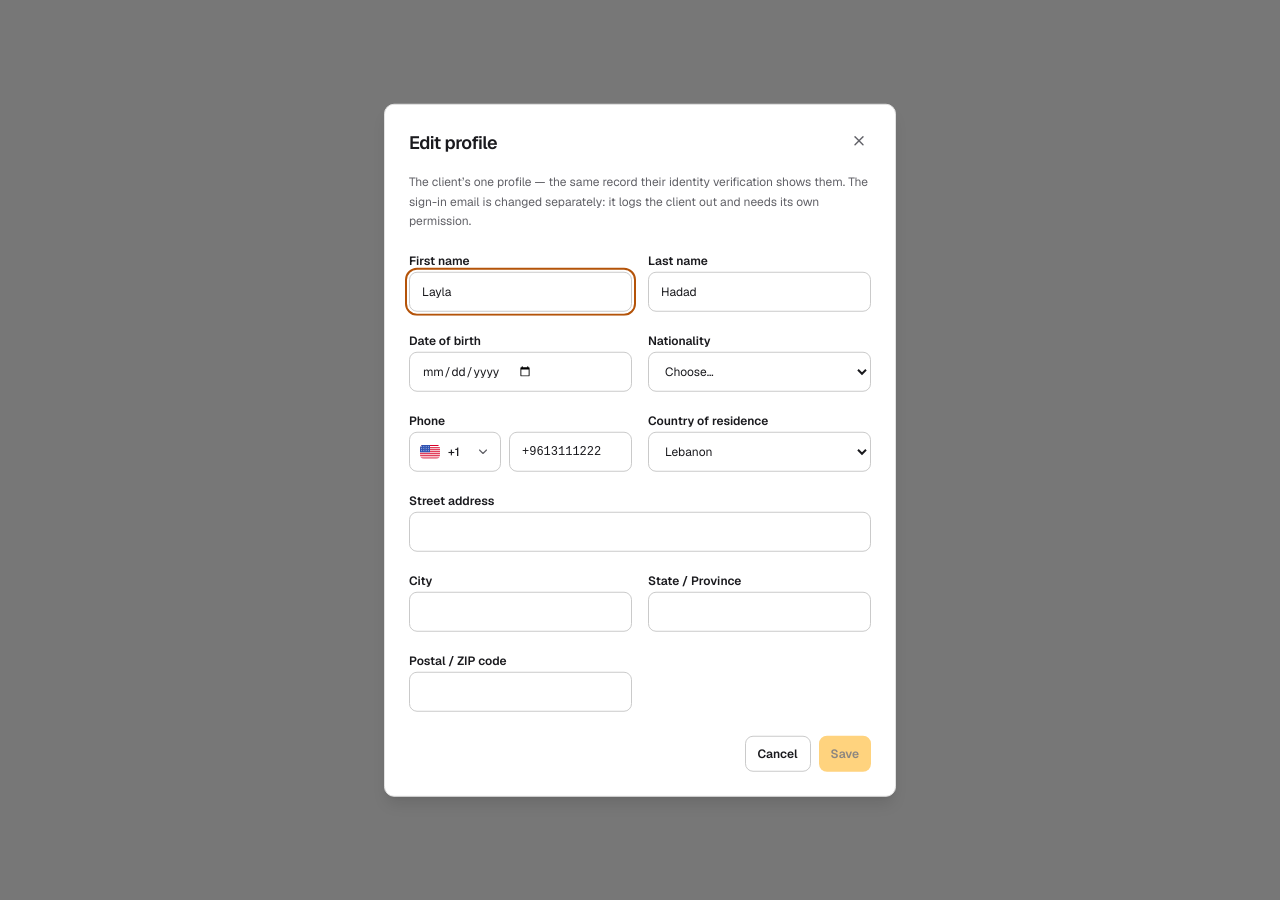
Test case: EditClientProfileDialog — the whole profile (0139) › puts the server’s refusal under the field it is about
Replace the text in the field labelled "Phone" with "70 12" at x=570, y=451, box [509,431,632,471]
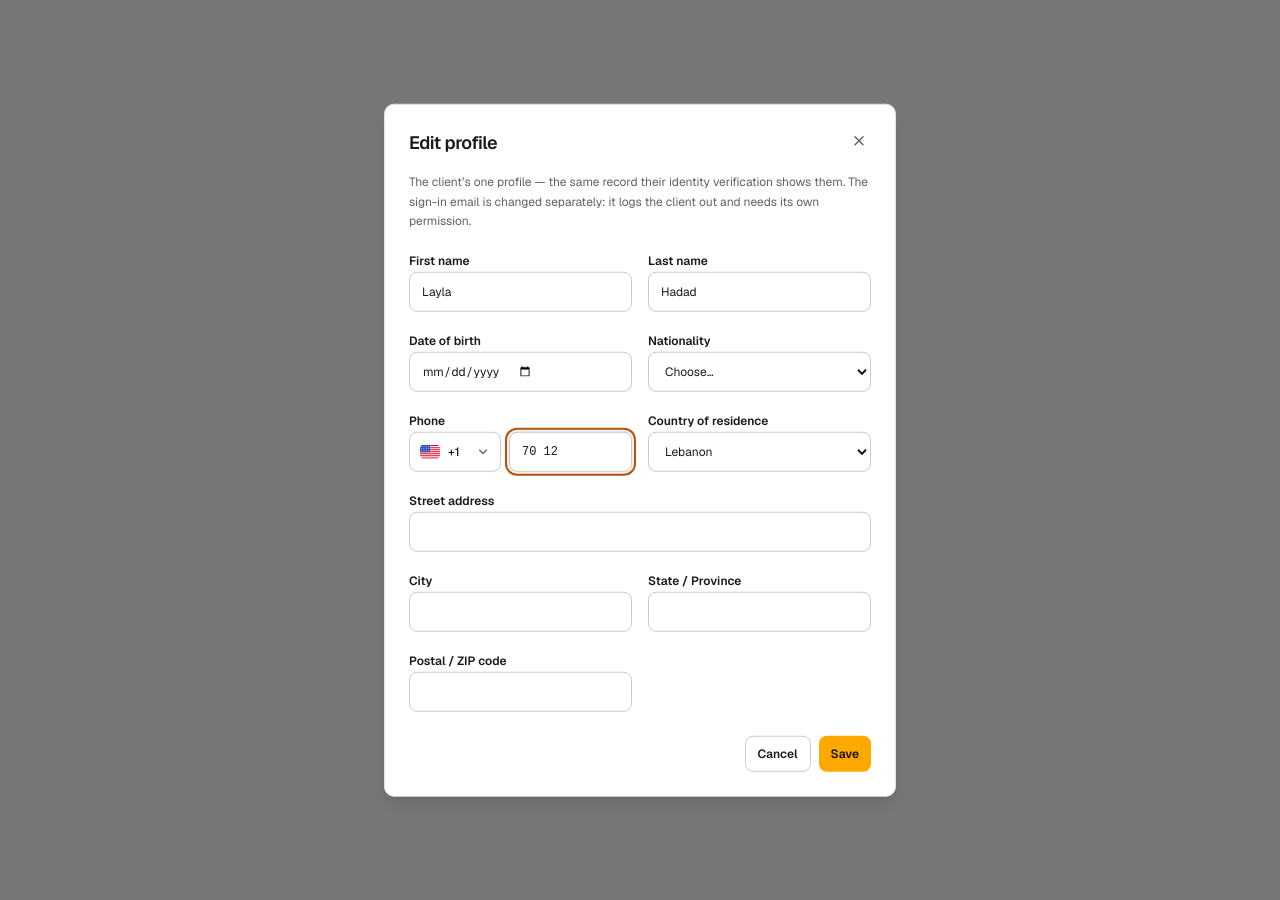
Click the button "Save" at x=845, y=753, box [818,735,871,771]
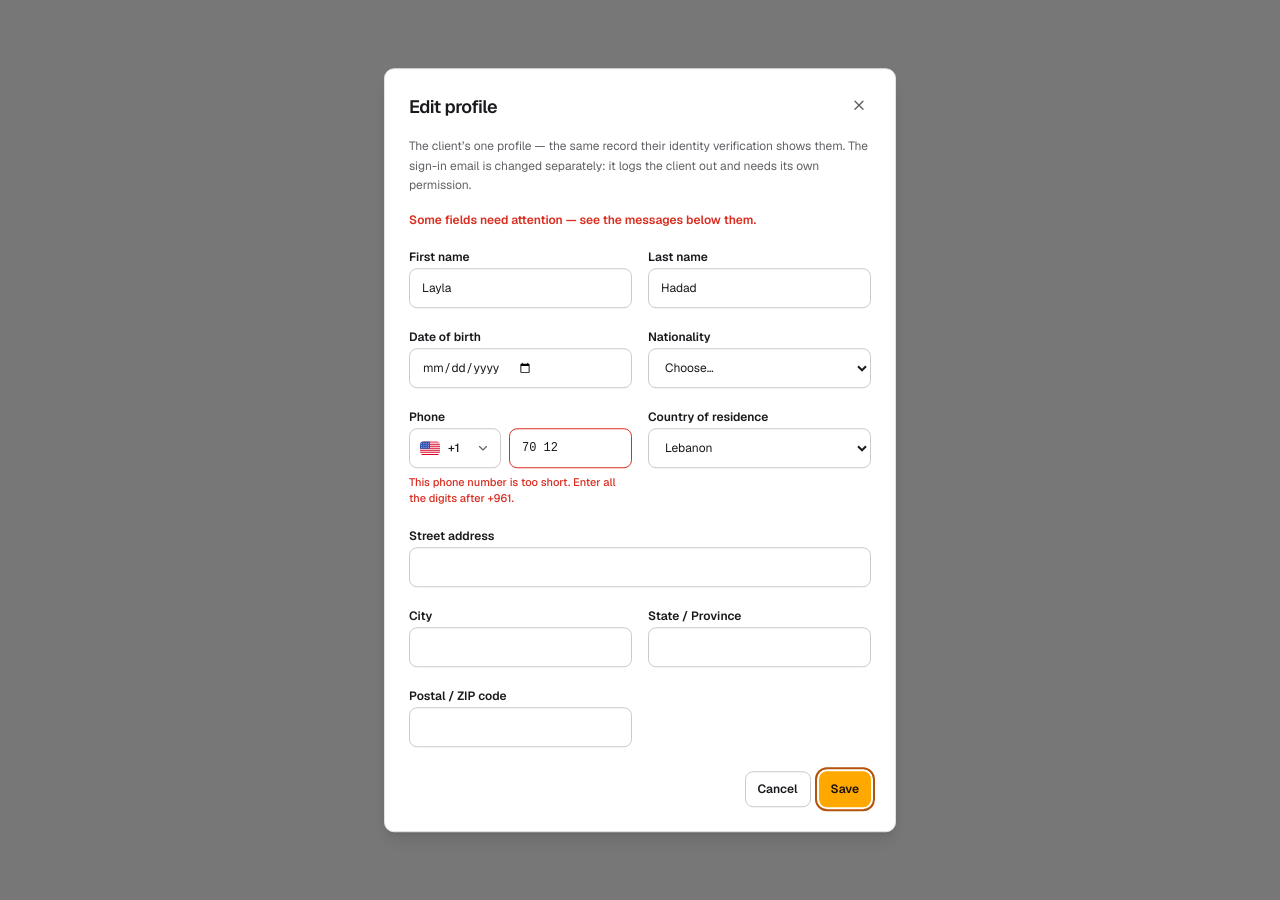
Check: the text "This phone number is too short. Enter all the digits after +961." is shown, box [409,474,632,507]
